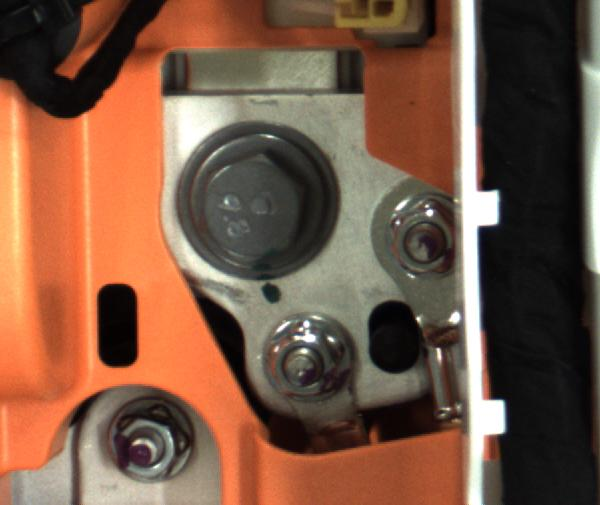nut_b: (176, 134, 338, 276)
screw_s: (256, 315, 353, 404), (104, 404, 191, 484), (392, 197, 464, 280)
